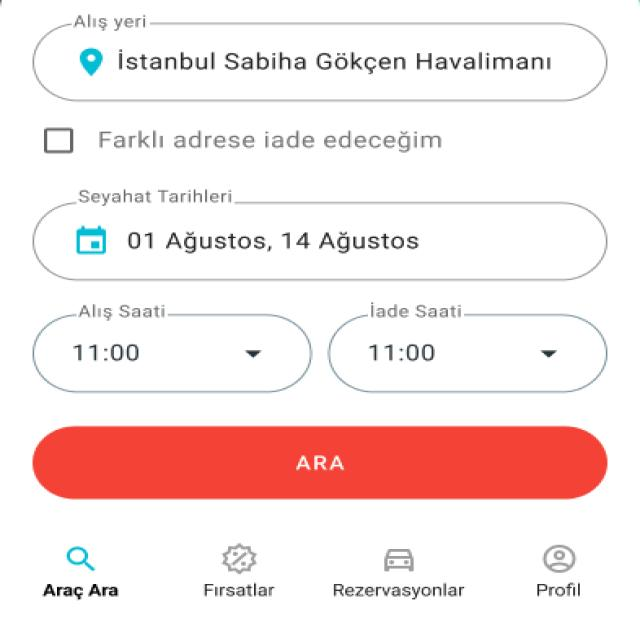QLabel: (329, 581, 468, 602), (197, 580, 278, 601), (38, 581, 123, 600), (290, 452, 347, 474), (529, 582, 584, 598)
VBottomNavigation: (0, 528, 640, 640)
VBtn: (32, 425, 607, 500), (323, 537, 473, 606), (29, 538, 138, 610), (191, 536, 283, 606), (525, 538, 591, 603)
VCheckbox: (36, 121, 453, 160)
VCombobox: (32, 301, 314, 395), (328, 301, 610, 395)
VIcon: (215, 542, 262, 577), (54, 544, 104, 574), (537, 544, 581, 574), (380, 544, 421, 575)
VTextField: (32, 188, 610, 282), (32, 13, 608, 103)
